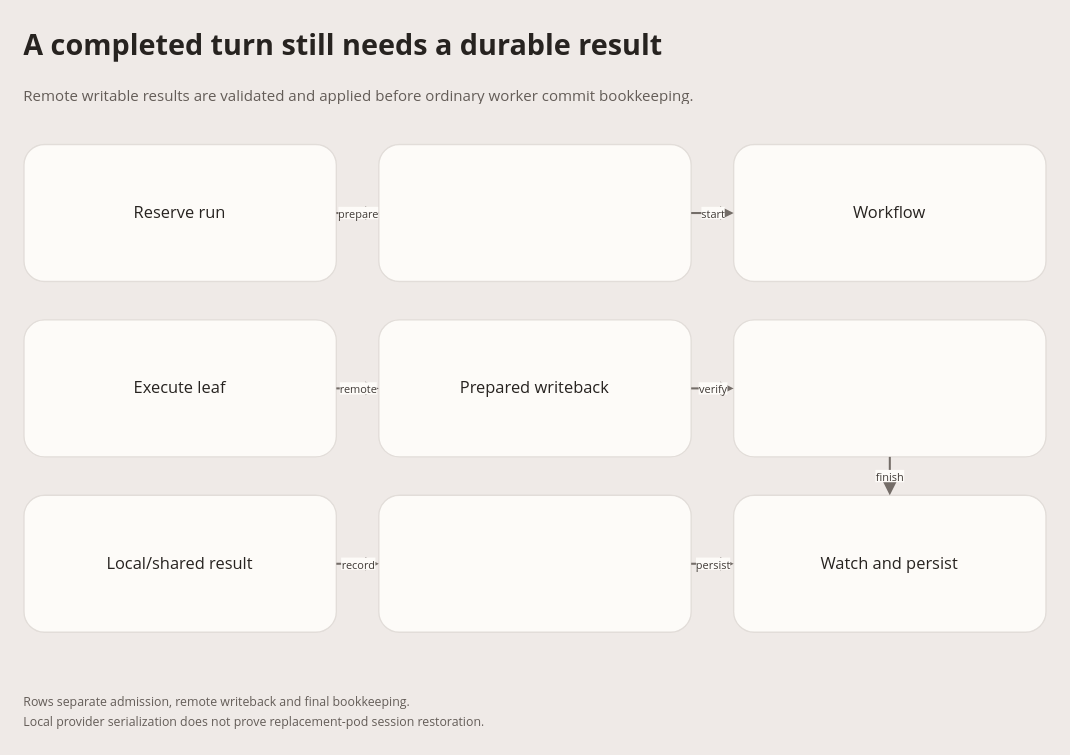
The diagram is 1070 pixels wide and 755 high, and some of its shapes have lost their labels. The shapes that lost their labels are listed below. From the top down, each one's centre as x and y in pixels, then its label:
(534,212): Prepare context
(889,388): Validate and apply
(534,563): Commit and diff
